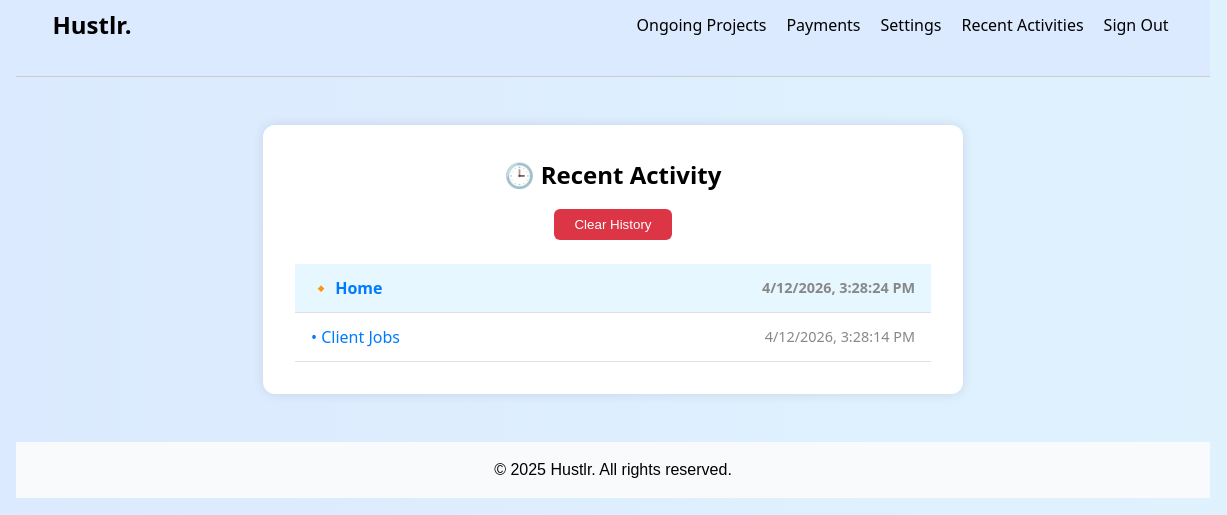
Test: RecentActivity component › clears history when "Clear History" button is clicked
Click the button "Clear History": x=613, y=224 [554, 209, 672, 240]
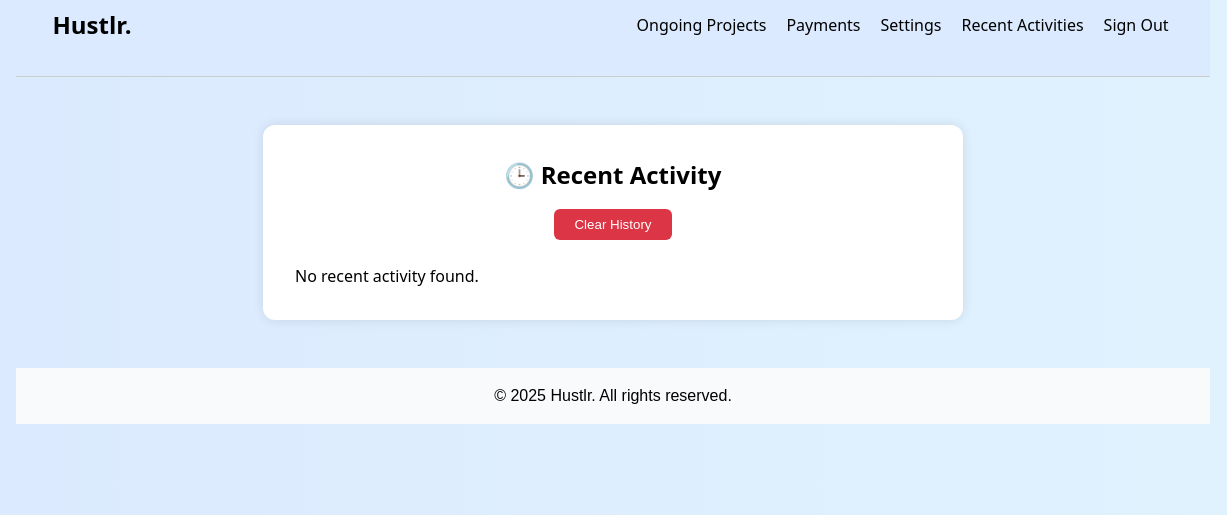
Expected: the text "No recent activity found." is shown, [295, 265, 479, 287]
